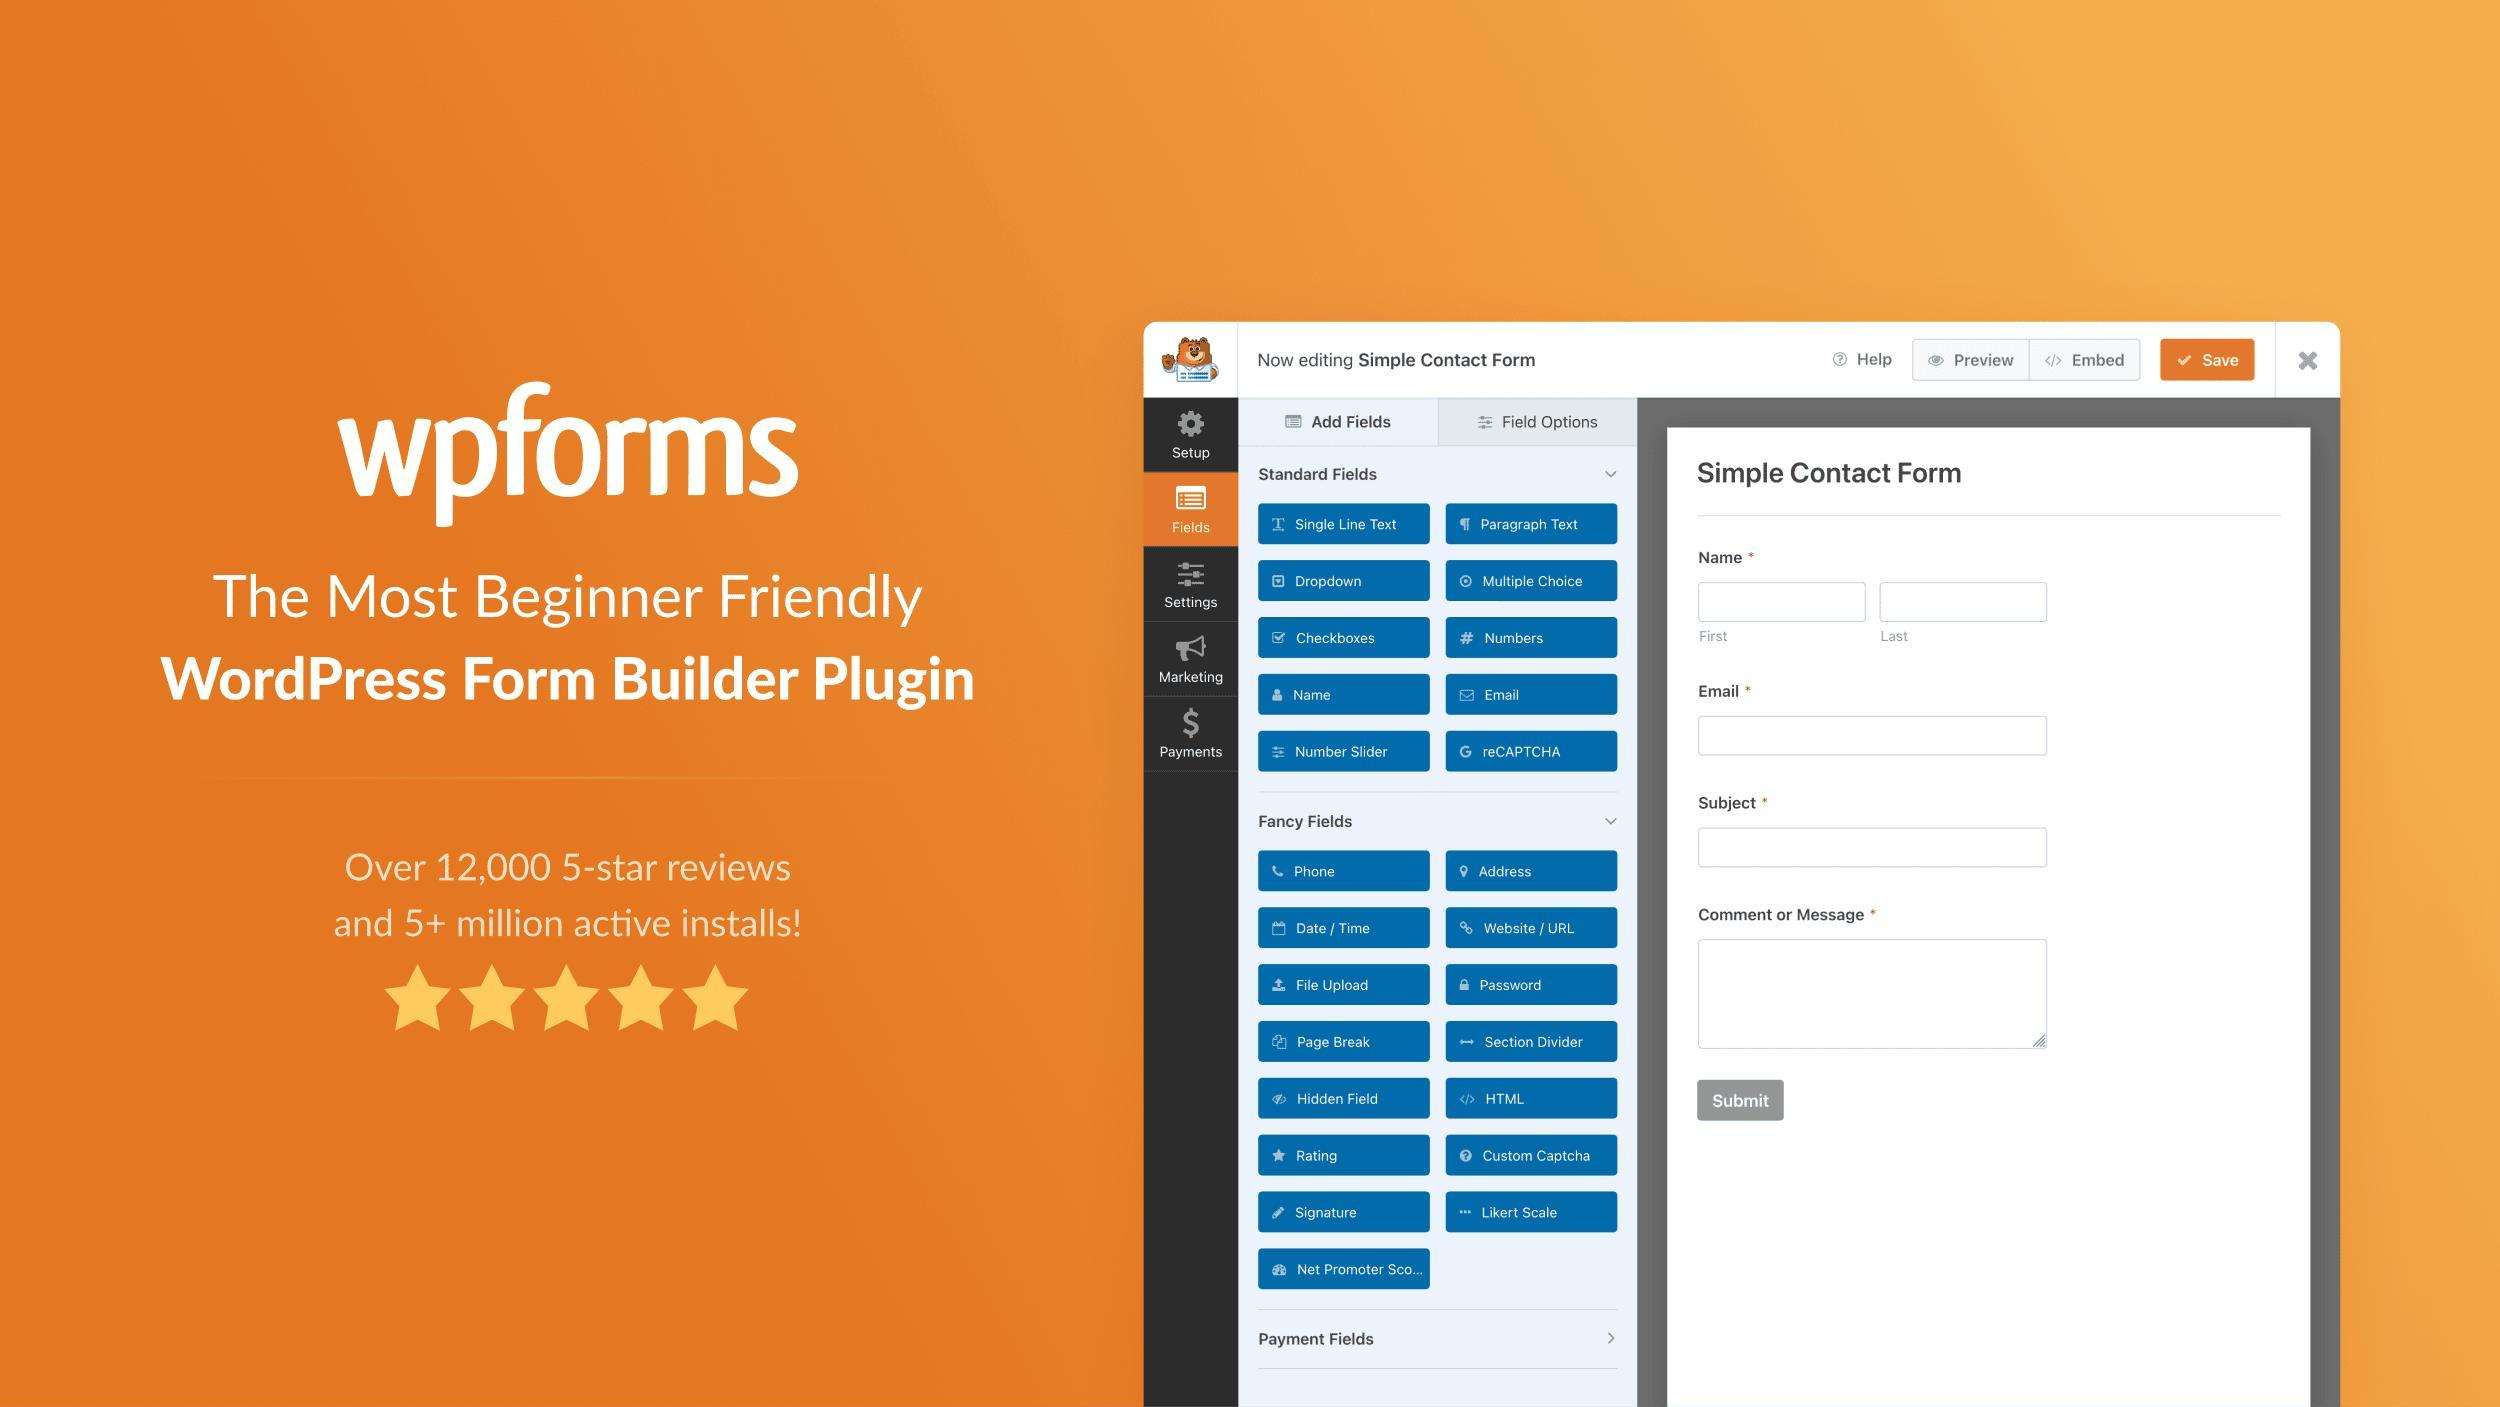button: (1913, 338, 2030, 385), (2030, 337, 2143, 381), (2158, 340, 2260, 385), (1696, 1081, 1786, 1124)
icon: (1171, 636, 1211, 667), (1173, 558, 1209, 589), (1176, 483, 1209, 515), (1180, 411, 1207, 440), (2296, 347, 2321, 376), (1181, 710, 1204, 742), (1480, 407, 1499, 431), (1456, 1146, 1477, 1166), (1269, 1034, 1291, 1053), (1271, 514, 1288, 538), (1265, 687, 1288, 704), (1461, 1091, 1477, 1113), (1272, 746, 1291, 763), (1459, 629, 1477, 648), (1459, 921, 1477, 940), (1271, 923, 1289, 940), (1271, 1203, 1288, 1221), (1271, 1264, 1289, 1282), (1284, 412, 1303, 429), (1271, 574, 1286, 593), (1269, 979, 1288, 995), (1834, 350, 1849, 369), (1269, 630, 1289, 644), (1456, 1038, 1477, 1051), (1459, 515, 1473, 534), (1459, 687, 1475, 703), (1459, 744, 1475, 759), (1271, 864, 1284, 881), (1272, 1094, 1291, 1106), (1276, 1148, 1288, 1166), (1459, 574, 1473, 589), (1458, 979, 1471, 993), (1459, 866, 1470, 880), (1459, 1209, 1473, 1220)
input: (1698, 826, 2050, 869), (1698, 716, 2050, 758), (1695, 581, 1870, 625), (1877, 581, 2052, 625)
label: (1698, 459, 1968, 496), (1248, 342, 1545, 371), (1691, 898, 1878, 928), (1255, 1325, 1382, 1354), (1487, 1031, 1585, 1055), (1497, 412, 1600, 435), (1295, 514, 1398, 536), (1298, 1259, 1427, 1276), (1298, 740, 1394, 763), (1485, 574, 1585, 594), (1487, 917, 1576, 940), (1482, 1146, 1595, 1163), (1295, 972, 1370, 998), (1480, 1203, 1566, 1223), (1296, 1089, 1380, 1110), (1159, 663, 1228, 687), (1696, 794, 1772, 814), (1314, 416, 1394, 435), (1696, 546, 1762, 569), (1300, 1032, 1370, 1053), (1295, 1204, 1362, 1225), (1296, 630, 1375, 648), (1484, 746, 1561, 763), (1157, 744, 1226, 763), (1161, 593, 1223, 613), (1291, 921, 1372, 936), (1695, 682, 1755, 703), (1480, 976, 1544, 995), (1484, 521, 1580, 533), (1298, 576, 1363, 593), (1480, 864, 1533, 885), (1295, 861, 1338, 885), (1487, 684, 1525, 708), (1485, 1093, 1537, 1110), (1168, 521, 1212, 539), (1296, 1148, 1339, 1166), (1489, 630, 1545, 644), (1856, 350, 1896, 369), (1173, 447, 1216, 464), (1296, 689, 1336, 704)
